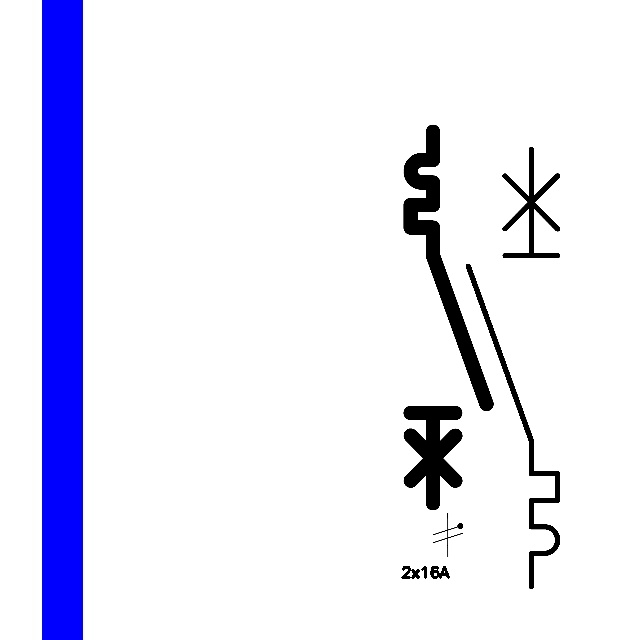interruptor_termomagnetico: (457, 138, 569, 598), (401, 122, 496, 512)
